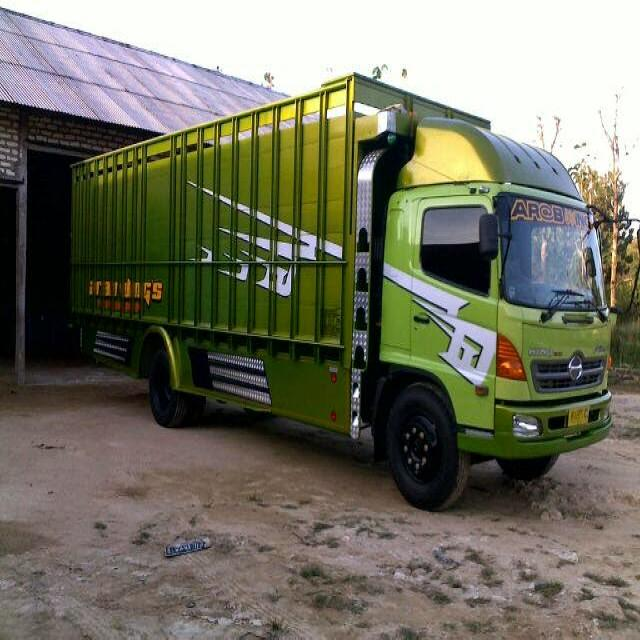truck: (75, 73, 612, 499)
